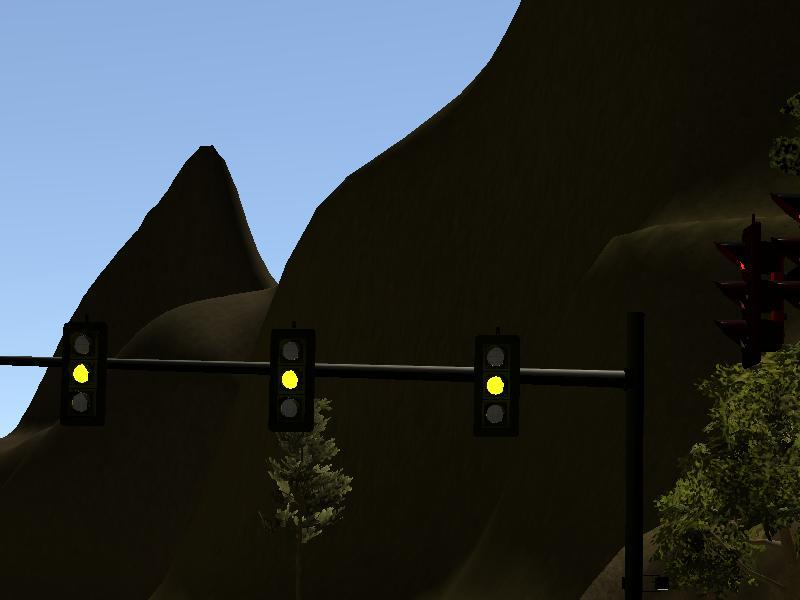Yellow: (269, 329, 314, 432), (474, 334, 519, 434), (63, 323, 104, 424)
